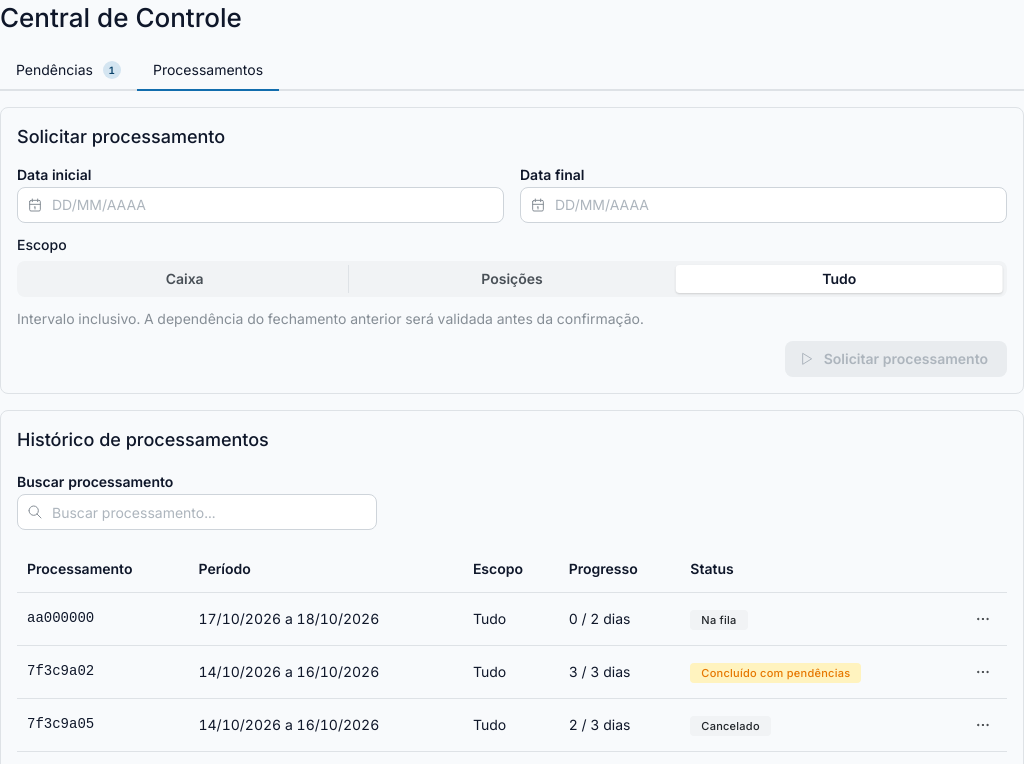
Test: Processamentos: cancel (§10.2) › §10.2 cancels a queued job at once, after confirmation
Click the button named "Ações do processamento" at point(983, 619), box [969,605,997,633]
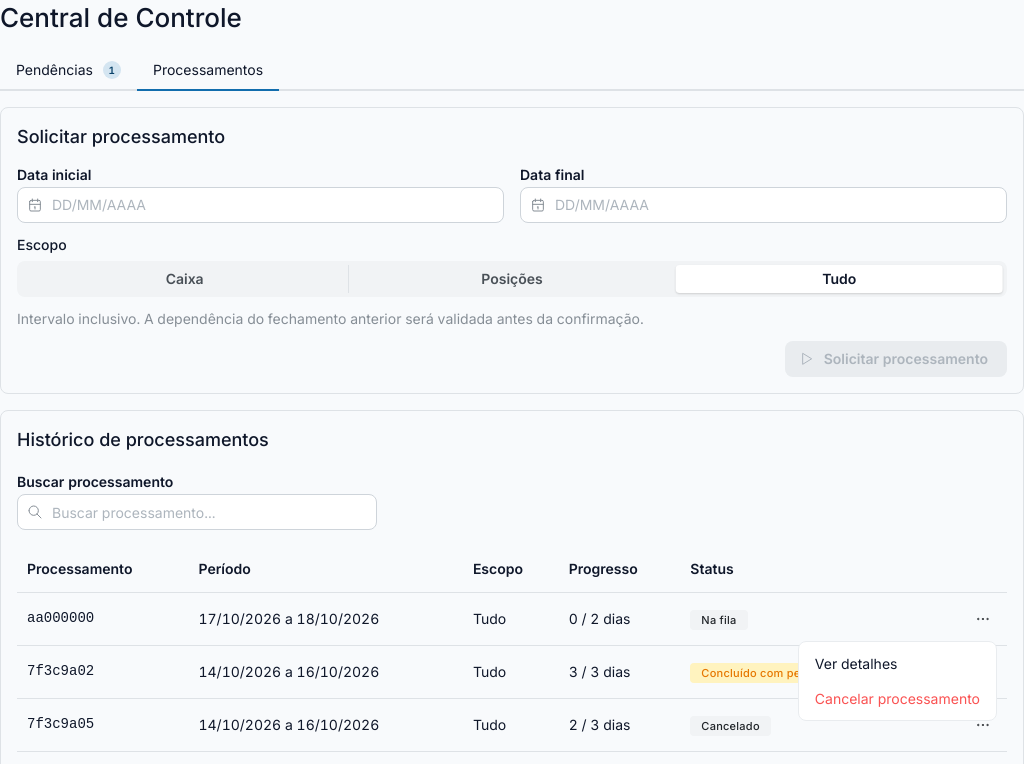
Click the menu item "Cancelar processamento" at point(897, 698), box [803,681,992,716]
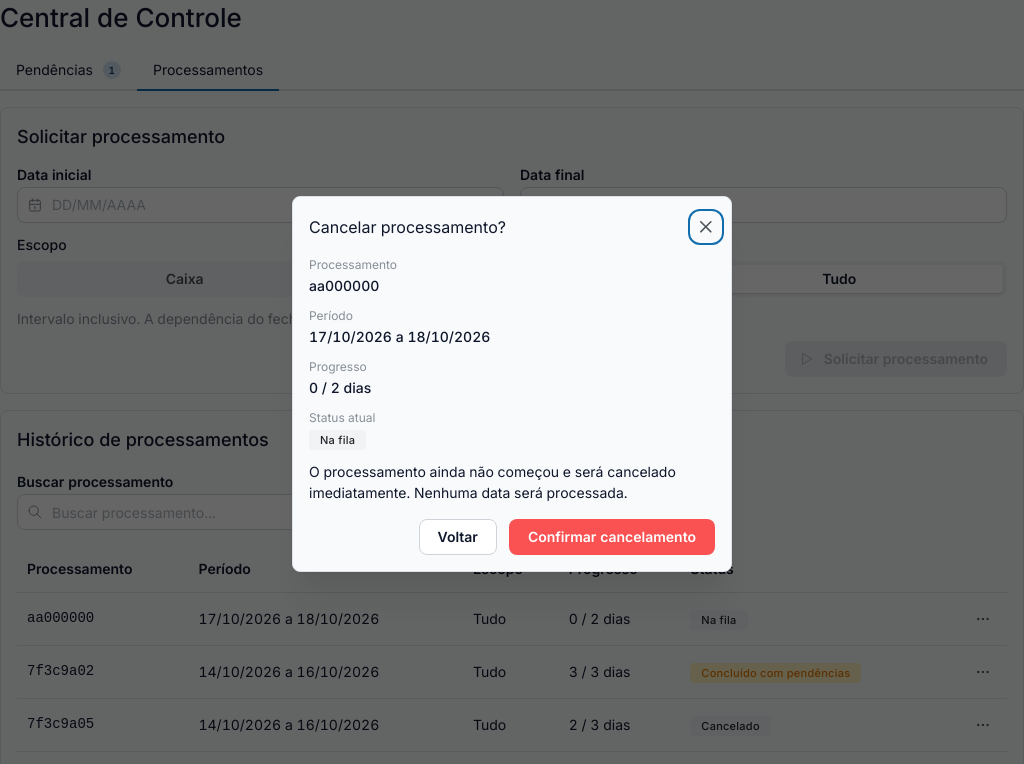
Expected: the text "aa000000" is shown, [309,277,379,294]
Expected: the text "17/10/2026 a 18/10/2026" is shown, [309,328,490,345]
Expected: the text "0 / 2 dias" is shown, [309,379,371,396]
Click the button "Confirmar cancelamento" at point(612, 537), box [509,519,715,555]
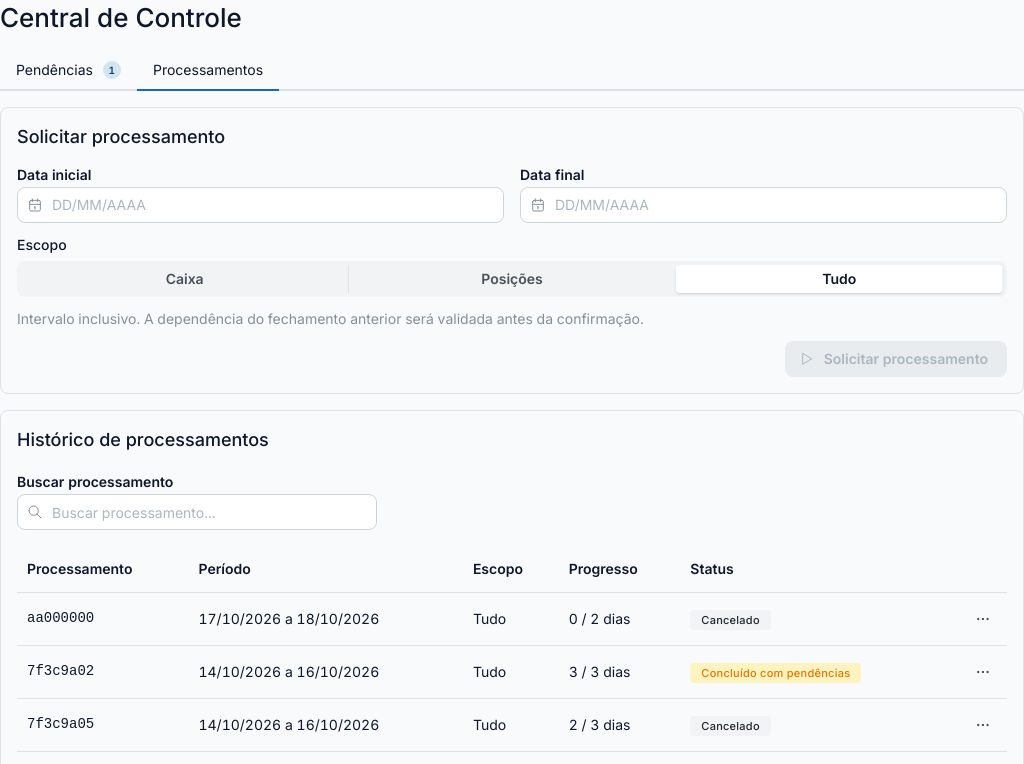
Expected: the heading "Cancelar processamento?" is gone
